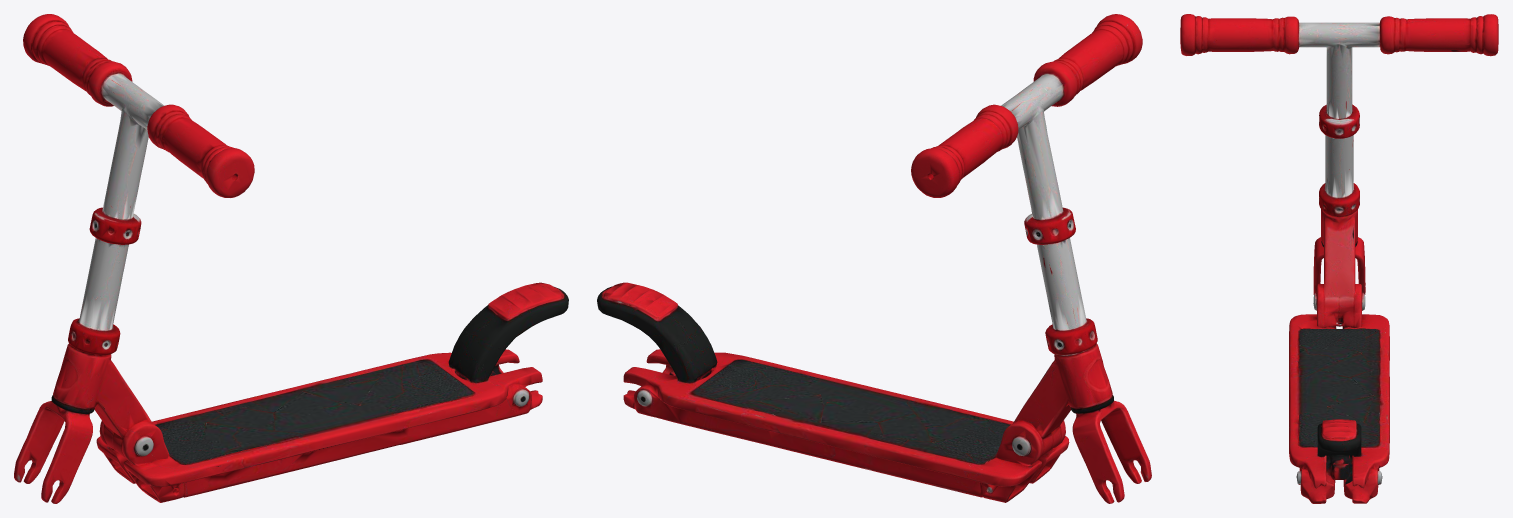
The model's file is scooter_red.glb.
3 renders of one model, left to right at view 1: azimuth 30°, elevation 25°; view 2: azimuth 150°, elevation 25°; view 3: azimuth 270°, elevation 25°, orthographic. The views are drawn at different scales.
Size of the model in its own units: 1.9 by 1.37 by 1.19.
1 material, 1 textured.
